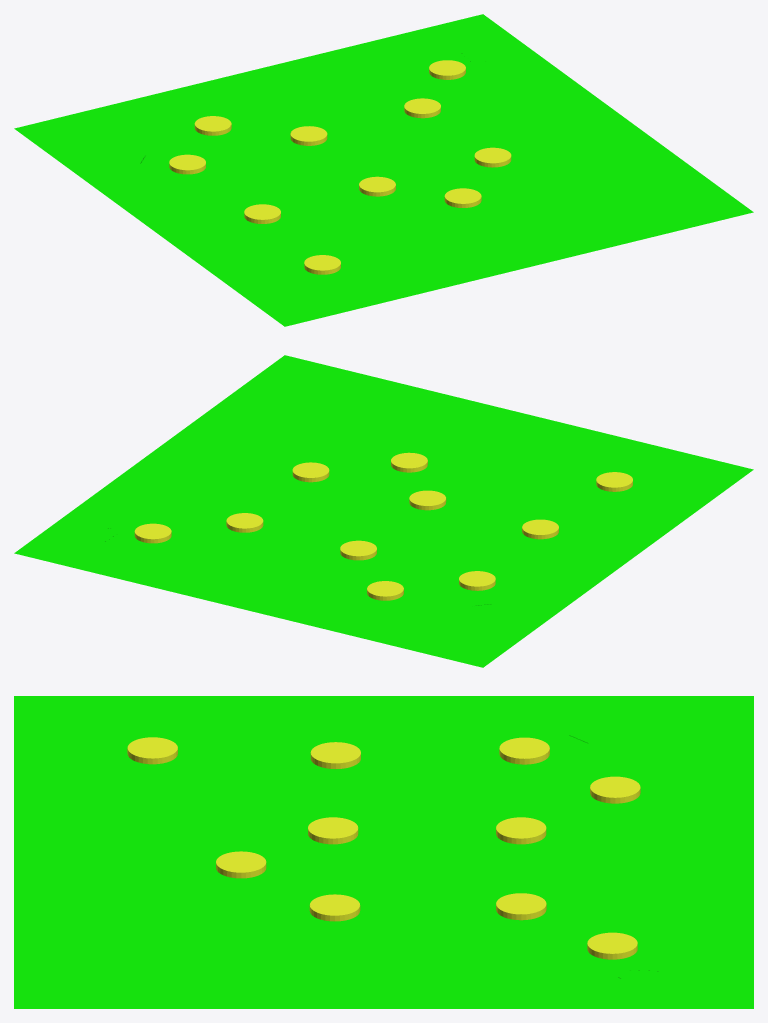
The model's file is campo.gltf.
The picture shows the model from 3 angles, top to bottom: view 1: azimuth 30°, elevation 25°; view 2: azimuth 150°, elevation 25°; view 3: azimuth 270°, elevation 25°; orthographic projection. The views are drawn at different scales.
Visible parts, largest first — view 1: Plane, Cylinder.009, Cylinder, Cylinder.004, Cylinder.006, Cylinder.008, Cylinder.007, Cylinder.005, Cylinder.001, Cylinder.002, Cylinder.003; view 2: Plane, Cylinder.009, Cylinder.002, Cylinder.003, Cylinder.006, Cylinder.007, Cylinder.008, Cylinder.005, Cylinder, Cylinder.001, Cylinder.004; view 3: Plane, Cylinder.009, Cylinder, Cylinder.001, Cylinder.002, Cylinder.004, Cylinder.008, Cylinder.005, Cylinder.006, Cylinder.007, Cylinder.003.
Boxes of the visible parts, x1,y1,x2,y2 form: Plane: [14, 14, 753, 326]; Cylinder.009: [474, 147, 511, 167]; Cylinder: [194, 116, 231, 135]; Cylinder.004: [169, 154, 205, 174]; Cylinder.006: [359, 176, 395, 196]; Cylinder.008: [290, 126, 327, 145]; Cylinder.007: [404, 98, 440, 118]; Cylinder.005: [444, 188, 481, 207]; Cylinder.001: [304, 255, 340, 274]; Cylinder.002: [429, 60, 465, 79]; Cylinder.003: [244, 204, 280, 223]; Plane: [14, 355, 753, 667]; Cylinder.009: [292, 462, 329, 482]; Cylinder.002: [134, 523, 171, 543]; Cylinder.003: [522, 519, 558, 539]; Cylinder.006: [409, 490, 446, 510]; Cylinder.007: [226, 513, 263, 532]; Cylinder.008: [340, 540, 376, 560]; Cylinder.005: [391, 452, 427, 472]; Cylinder: [367, 581, 403, 600]; Cylinder.001: [596, 472, 632, 491]; Cylinder.004: [459, 571, 495, 590]; Plane: [14, 696, 753, 1008]; Cylinder.009: [309, 894, 360, 921]; Cylinder: [590, 776, 640, 803]; Cylinder.001: [127, 737, 177, 764]; Cylinder.002: [587, 932, 637, 959]; Cylinder.004: [499, 737, 549, 764]; Cylinder.008: [496, 817, 546, 844]; Cylinder.005: [216, 851, 266, 878]; Cylinder.006: [308, 817, 358, 844]; Cylinder.007: [496, 893, 546, 920]; Cylinder.003: [310, 742, 360, 769].
Size of the model in its own units: 19.99 by 0.2478 by 19.99.
Materials: 11 (11 with a texture image).
